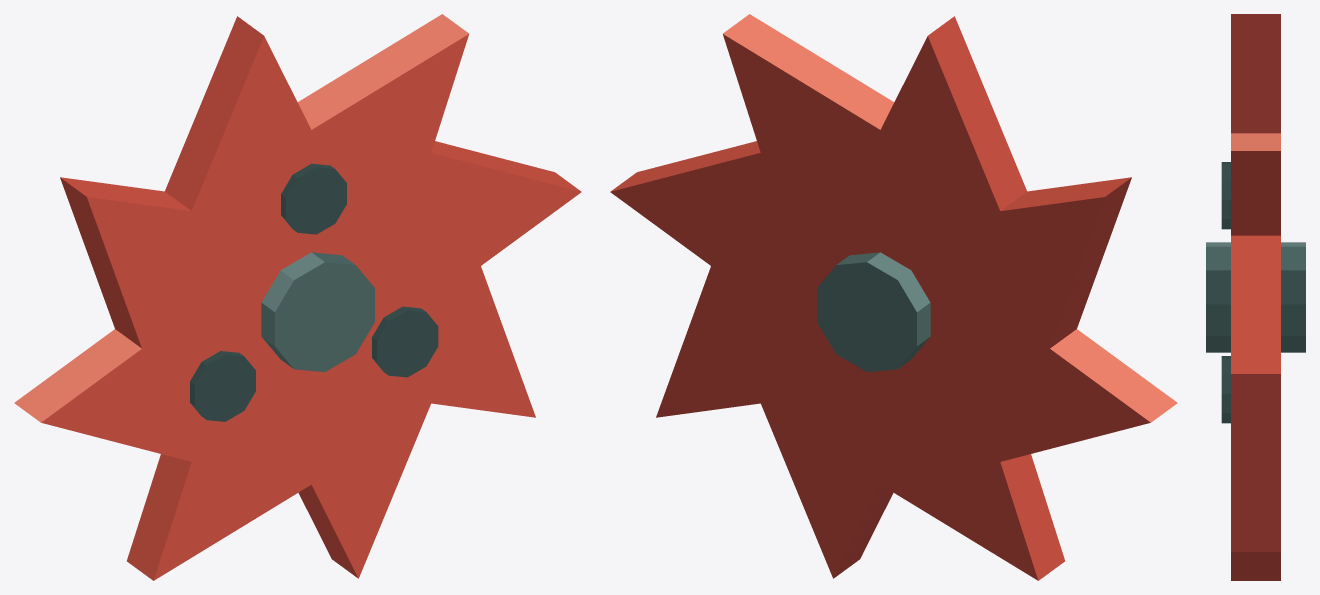
Rendered from Spikes_Saw.gltf.
3 views of the same model, side by side, from view 1: azimuth 30°, elevation 25°; view 2: azimuth 150°, elevation 25°; view 3: azimuth 270°, elevation 25° (orthographic). The views are drawn at different scales.
Visible parts, largest first — view 1: Spikes_Saw_baked; view 2: Spikes_Saw_baked; view 3: Spikes_Saw_baked.
Part boxes in pixels (x1,y1,x2,y2): Spikes_Saw_baked: (14, 14, 581, 580); Spikes_Saw_baked: (610, 14, 1177, 580); Spikes_Saw_baked: (1206, 14, 1305, 580).
Bounding box in the file's own units: 0.926 × 0.926 × 0.16.
